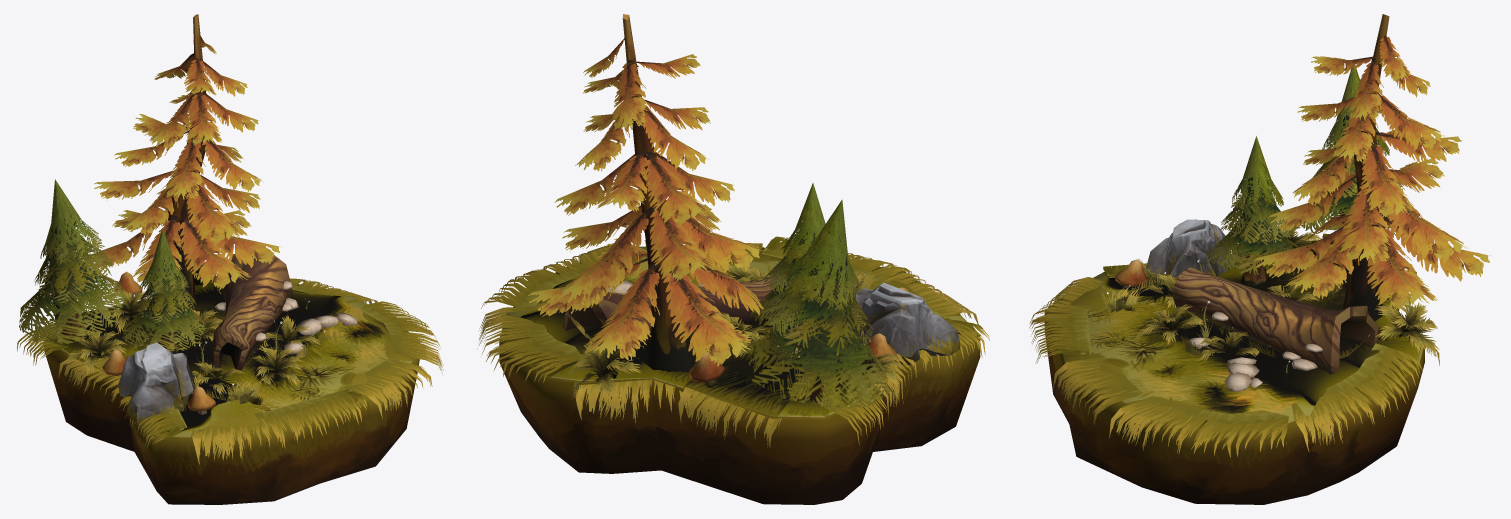
File: scena sir birgin menu.FBX
The picture shows the model from 3 angles, left to right: view 1: azimuth 30°, elevation 25°; view 2: azimuth 150°, elevation 25°; view 3: azimuth 270°, elevation 25°; orthographic projection. The views are drawn at different scales.
Visible parts, largest first — view 1: Plane001, Object038, Object047, Object087, Boulder_A006_UnWrap_CleanUps001, Object044, Object048, Object043, Object085, Object117, Object054, Object084 (+20 smaller); view 2: Plane001, Object047, Boulder_A006_UnWrap_CleanUps001, Object044, Object038, Object051, Object043, Object056, Object149, Object060, Object037, Object087 (+22 smaller); view 3: Plane001, Object038, Object085, Object149, Object087, Boulder_A006_UnWrap_CleanUps001, Object084, Object059, Object048, Object058, Object051, Object061 (+18 smaller).
Part boxes in pixels (left/top/right/bottom): Plane001: left=44, top=276, right=419, bottom=504; Object038: left=102, top=249, right=357, bottom=414; Object047: left=19, top=246, right=127, bottom=344; Object087: left=191, top=389, right=367, bottom=464; Boulder_A006_UnWrap_CleanUps001: left=118, top=342, right=193, bottom=422; Object044: left=35, top=219, right=112, bottom=303; Object048: left=122, top=285, right=207, bottom=351; Object043: left=40, top=179, right=104, bottom=264; Object085: left=361, top=301, right=443, bottom=374; Object117: left=58, top=350, right=187, bottom=448; Object054: left=180, top=215, right=251, bottom=290; Object084: left=343, top=358, right=432, bottom=418; Plane001: left=499, top=246, right=980, bottom=504; Object047: left=742, top=295, right=890, bottom=407; Boulder_A006_UnWrap_CleanUps001: left=853, top=282, right=960, bottom=364; Object044: left=760, top=256, right=873, bottom=355; Object038: left=563, top=272, right=908, bottom=387; Object051: left=622, top=14, right=694, bottom=371; Object043: left=784, top=199, right=862, bottom=314; Object056: left=663, top=268, right=751, bottom=366; Object149: left=477, top=307, right=590, bottom=382; Object060: left=582, top=263, right=659, bottom=360; Object037: left=559, top=207, right=653, bottom=307; Object087: left=761, top=236, right=978, bottom=324; Plane001: left=1044, top=239, right=1424, bottom=504; Object038: left=1115, top=240, right=1403, bottom=392; Object085: left=1109, top=397, right=1288, bottom=457; Object149: left=1291, top=343, right=1422, bottom=452; Object087: left=1029, top=277, right=1102, bottom=363; Boulder_A006_UnWrap_CleanUps001: left=1146, top=219, right=1231, bottom=282; Object084: left=1052, top=357, right=1142, bottom=424; Object059: left=1366, top=224, right=1438, bottom=310; Object048: left=1204, top=200, right=1303, bottom=275; Object058: left=1339, top=184, right=1390, bottom=263; Object051: left=1343, top=14, right=1389, bottom=321; Object061: left=1361, top=141, right=1414, bottom=217.
Bounding box in the file's own units: 16.76 × 17.09 × 17.24.
